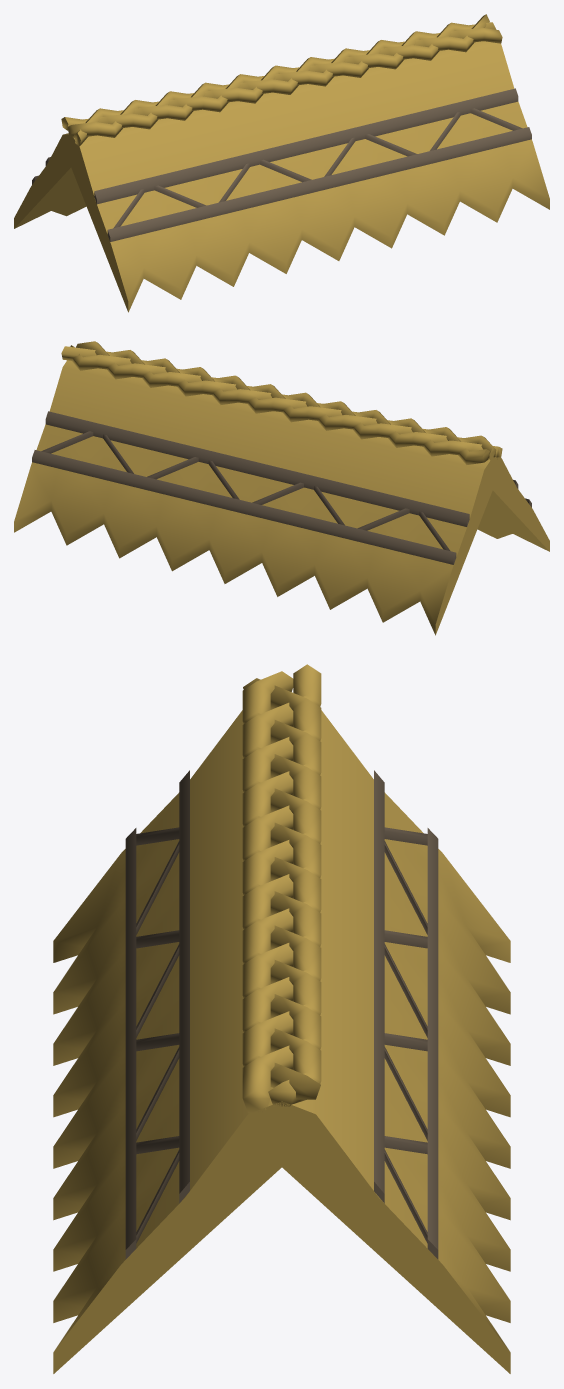
Rendered from toit--chaume.glb.
3 renders of one model, top to bottom at view 1: azimuth 30°, elevation 25°; view 2: azimuth 150°, elevation 25°; view 3: azimuth 270°, elevation 25°, orthographic. The views are drawn at different scales.
Parts seen in each view (by area): view 1: faitiere; view 2: faitiere; view 3: faitiere.
Boxes of the visible parts, box(x1,y1,x2,y2) form: faitiere: box(14, 14, 549, 312); faitiere: box(14, 341, 549, 635); faitiere: box(53, 664, 510, 1373).
Size of the model in its own units: 2 by 0.6776 by 0.94.
